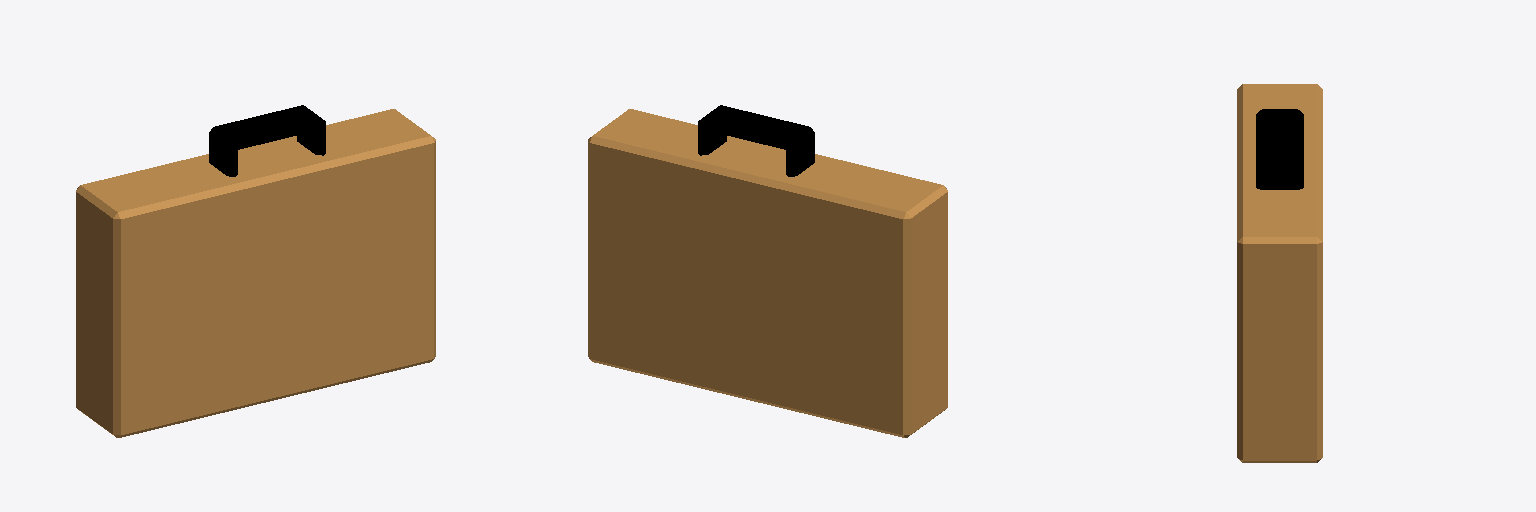
The model's file is briefcase.obj.
3 renders of one model, left to right at view 1: azimuth 30°, elevation 25°; view 2: azimuth 150°, elevation 25°; view 3: azimuth 270°, elevation 25°, orthographic.
Parts seen in each view (by area): view 1: Cube, Cube.3, Cube.1, Cube.2; view 2: Cube, Cube.3, Cube.1, Cube.2; view 3: Cube, Cube.3, Cube.2.
Part boxes in pixels (x1,y1,x2,y2): Cube: (76,109,435,437); Cube.3: (209,105,325,149); Cube.1: (209,135,237,176); Cube.2: (297,125,325,155); Cube: (588,109,947,437); Cube.3: (698,105,814,149); Cube.1: (786,135,814,176); Cube.2: (698,125,726,155); Cube: (1237,84,1322,462); Cube.3: (1256,109,1303,161); Cube.2: (1256,159,1303,189).
Bounding box in the file's own units: 200 × 154 × 45.83.